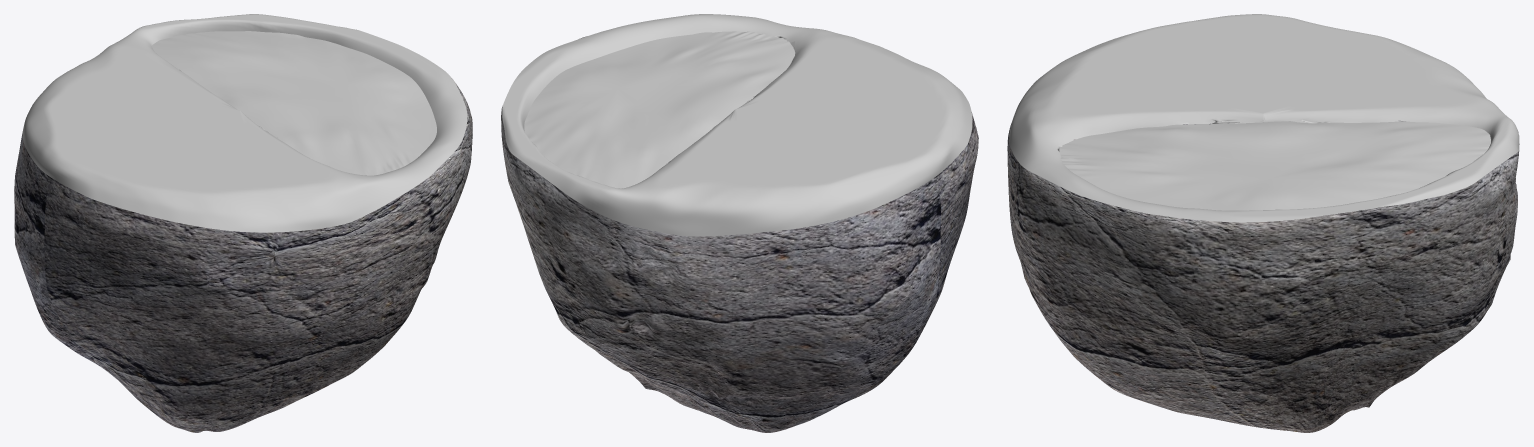
Rendered from insula2.fbx.
3 views of the same model, side by side, from view 1: azimuth 30°, elevation 25°; view 2: azimuth 150°, elevation 25°; view 3: azimuth 270°, elevation 25° (orthographic). The views are drawn at different scales.
Parts seen in each view (by area): view 1: Suprafata.001; view 2: Suprafata.001; view 3: Suprafata.001.
Part boxes in pixels (left/top/right/bottom): Suprafata.001: left=14, top=14, right=472, bottom=432; Suprafata.001: left=501, top=14, right=978, bottom=432; Suprafata.001: left=1007, top=14, right=1519, bottom=432.
Size of the model in its own units: 1134 by 755 by 1130.
